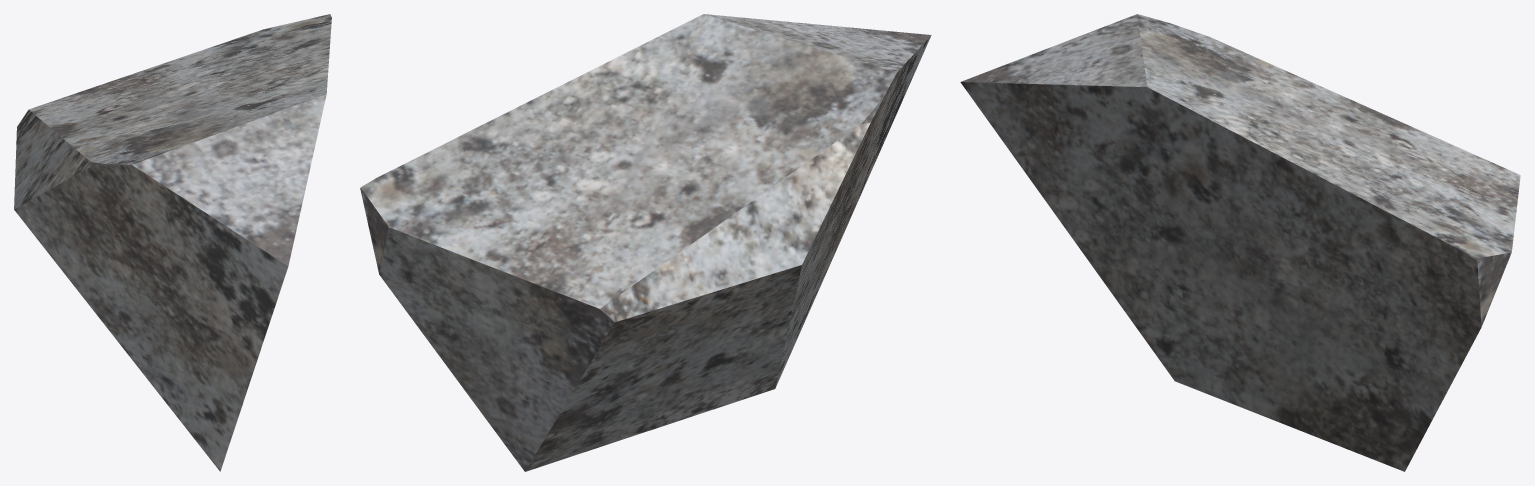
Rendered from Asteroid_Large_001_02_009_03_049.fbx.
3 views of the same model, side by side, from view 1: azimuth 30°, elevation 25°; view 2: azimuth 150°, elevation 25°; view 3: azimuth 270°, elevation 25° (orthographic). The views are drawn at different scales.
Parts seen in each view (by area): view 1: Asteroid_Large_001_02_009_03_049; view 2: Asteroid_Large_001_02_009_03_049; view 3: Asteroid_Large_001_02_009_03_049.
Part boxes in pixels (box(x1,y1,x2,y2)): Asteroid_Large_001_02_009_03_049: box(14, 14, 331, 471); Asteroid_Large_001_02_009_03_049: box(360, 14, 931, 471); Asteroid_Large_001_02_009_03_049: box(960, 14, 1520, 471).
Bounding box in the file's own units: 7.71 × 7.42 × 10.39.
